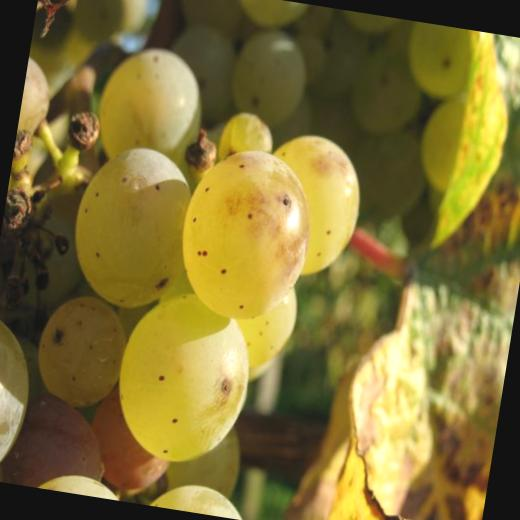Orange: (0, 0, 478, 520)
